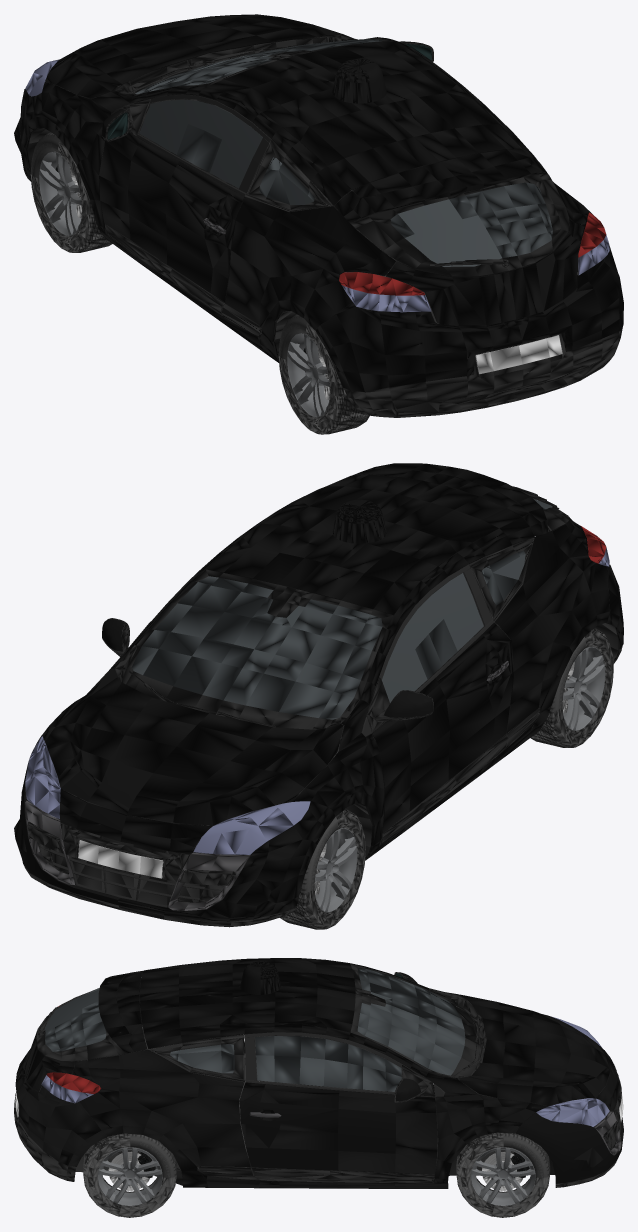
The model's file is CAR_original.dae.
3 renders of one model, top to bottom at view 1: azimuth 30°, elevation 25°; view 2: azimuth 150°, elevation 25°; view 3: azimuth 270°, elevation 25°, orthographic. The views are drawn at different scales.
Visible parts, largest first — view 1: Body, window, Body_Parts, window_Frame, tire_11, tire_17, tire_12, tire_16, Light_glass, Back_light, Sensors, plate (+2 smaller); view 2: Body, window, Body_Parts, window_Frame, Light_glass, Doorknob, tire_17, tire_11, tire_16, tire_12, Sensors, plate (+1 smaller); view 3: Body, window, Body_Parts, window_Frame, tire_5, tire_9, tire_3, tire_8, Light_glass, Sensors, Window_Frame, Back_light (+3 smaller).
Boxes of the visible parts, left/top/right/bottom form: Body: left=14, top=14, right=623, bottom=391; window: left=135, top=38, right=552, bottom=266; Body_Parts: left=23, top=35, right=622, bottom=417; window_Frame: left=131, top=38, right=578, bottom=276; tire_11: left=278, top=314, right=369, bottom=434; tire_17: left=30, top=132, right=112, bottom=252; tire_12: left=287, top=333, right=329, bottom=417; tire_16: left=39, top=151, right=81, bottom=235; Light_glass: left=25, top=59, right=609, bottom=312; Back_light: left=339, top=212, right=606, bottom=295; Sensors: left=332, top=59, right=386, bottom=103; plate: left=475, top=335, right=562, bottom=374; Body: left=14, top=463, right=623, bottom=921; window: left=132, top=498, right=552, bottom=719; Body_Parts: left=23, top=486, right=622, bottom=927; window_Frame: left=122, top=506, right=568, bottom=729; Light_glass: left=25, top=547, right=609, bottom=854; Doorknob: left=25, top=660, right=508, bottom=910; tire_17: left=280, top=808, right=365, bottom=929; tire_11: left=530, top=628, right=613, bottom=747; tire_16: left=314, top=828, right=357, bottom=912; tire_12: left=562, top=646, right=605, bottom=730; Sensors: left=332, top=499, right=386, bottom=543; plate: left=78, top=840, right=163, bottom=878; Body: left=15, top=958, right=623, bottom=1188; window: left=45, top=968, right=465, bottom=1091; Body_Parts: left=14, top=972, right=621, bottom=1187; window_Frame: left=36, top=964, right=479, bottom=1079; tire_5: left=456, top=1132, right=550, bottom=1217; tire_9: left=83, top=1133, right=176, bottom=1217; tire_3: left=470, top=1147, right=535, bottom=1206; tire_8: left=97, top=1147, right=162, bottom=1206; Light_glass: left=41, top=1016, right=609, bottom=1126; Sensors: left=240, top=961, right=280, bottom=994; Window_Frame: left=149, top=1034, right=402, bottom=1092; Back_light: left=46, top=1005, right=101, bottom=1094.
Bounding box in the file's own units: 201 × 157 × 430.
Materials: 27 (2 with a texture image).
